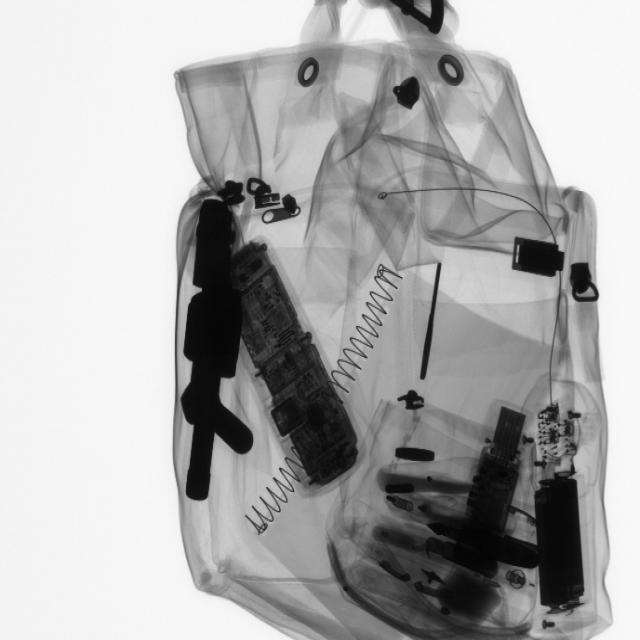GUN: (173, 201, 256, 509)
